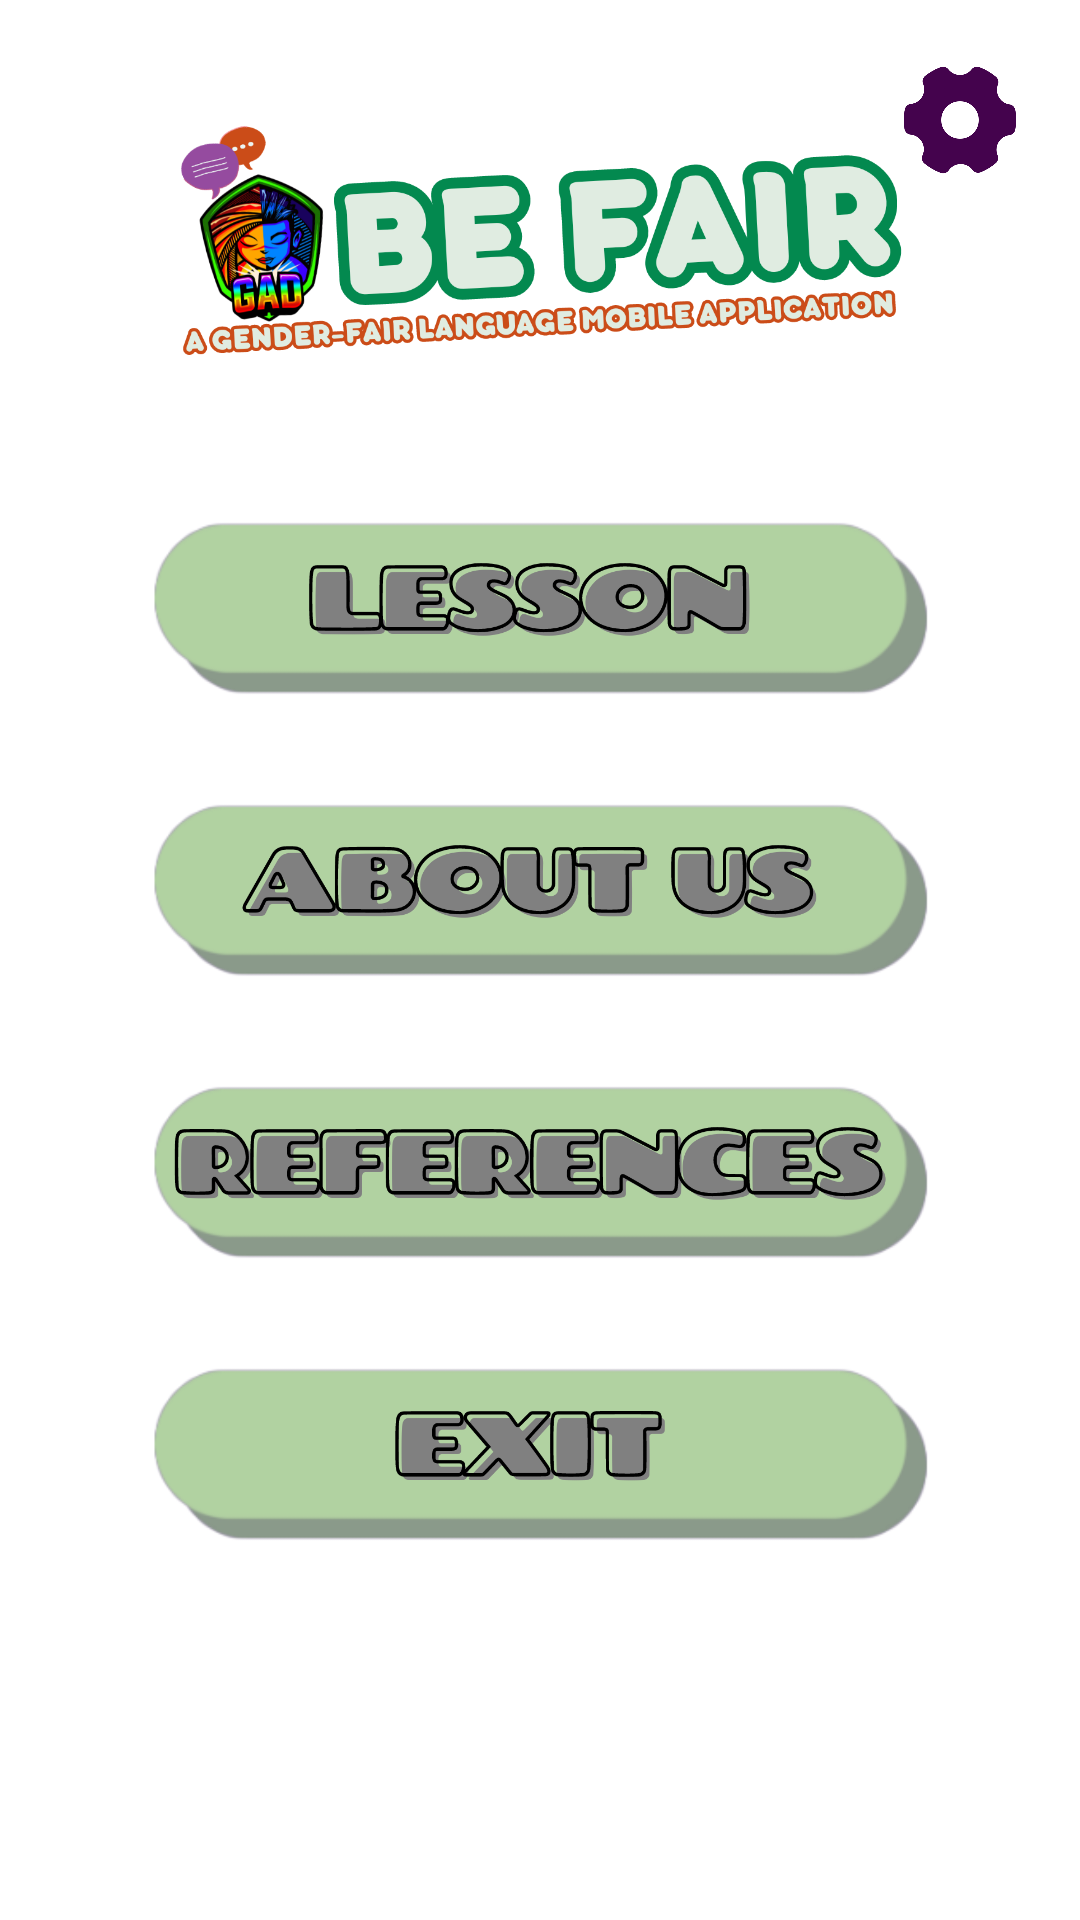

Named icons in this screenshot (1080*1920) and their bounding boxes, [x1=x1, y1=y1, x2=x2, y2=y2]:
setting: [x1=904, y1=67, x2=1016, y2=173]
